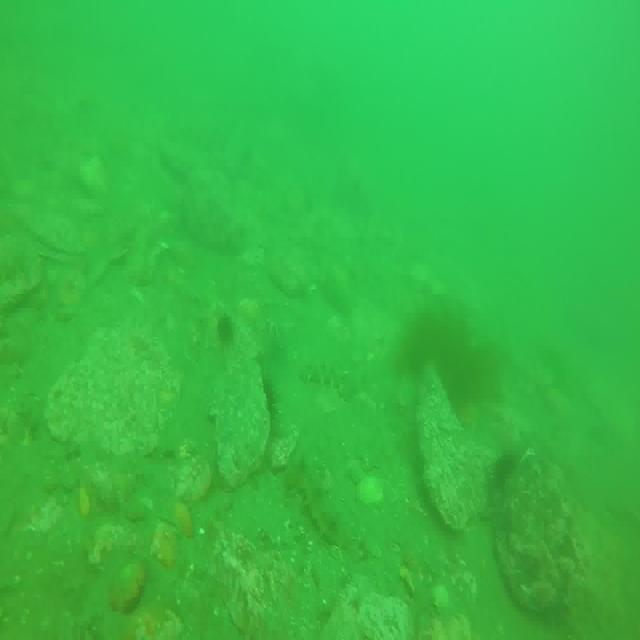echinus: (494, 444, 518, 494), (214, 307, 238, 347)
holothurian: (284, 450, 345, 548), (295, 356, 356, 400)
